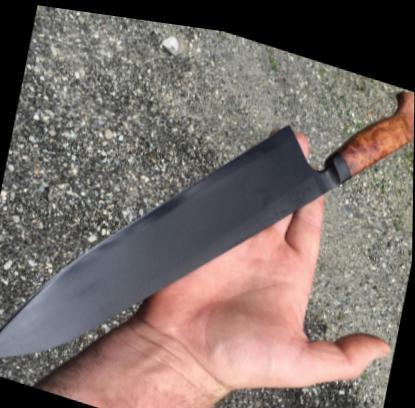knife: (0, 84, 339, 405)
